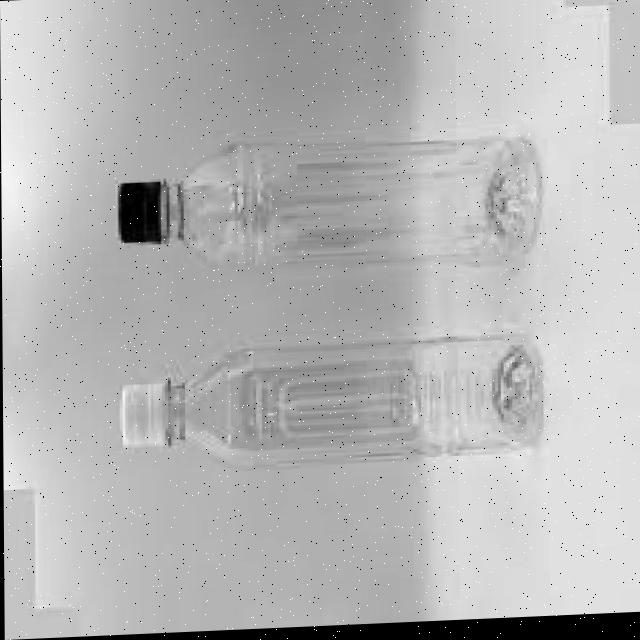bottle: (105, 110, 550, 304), (108, 322, 555, 483)
